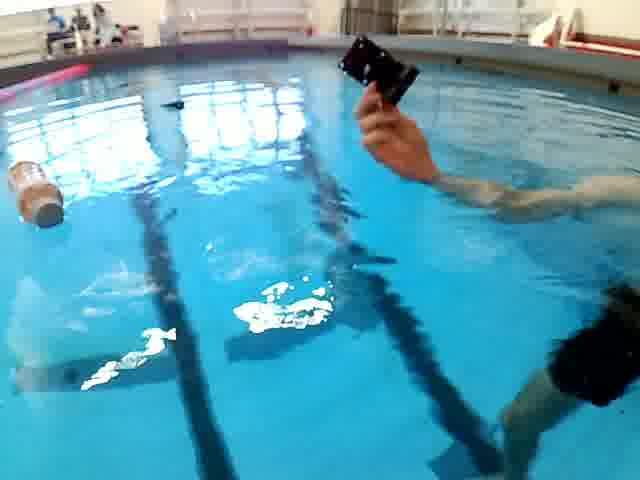Bottle: (2, 158, 76, 232)
CamMount: (336, 29, 422, 107), (154, 95, 191, 116)
